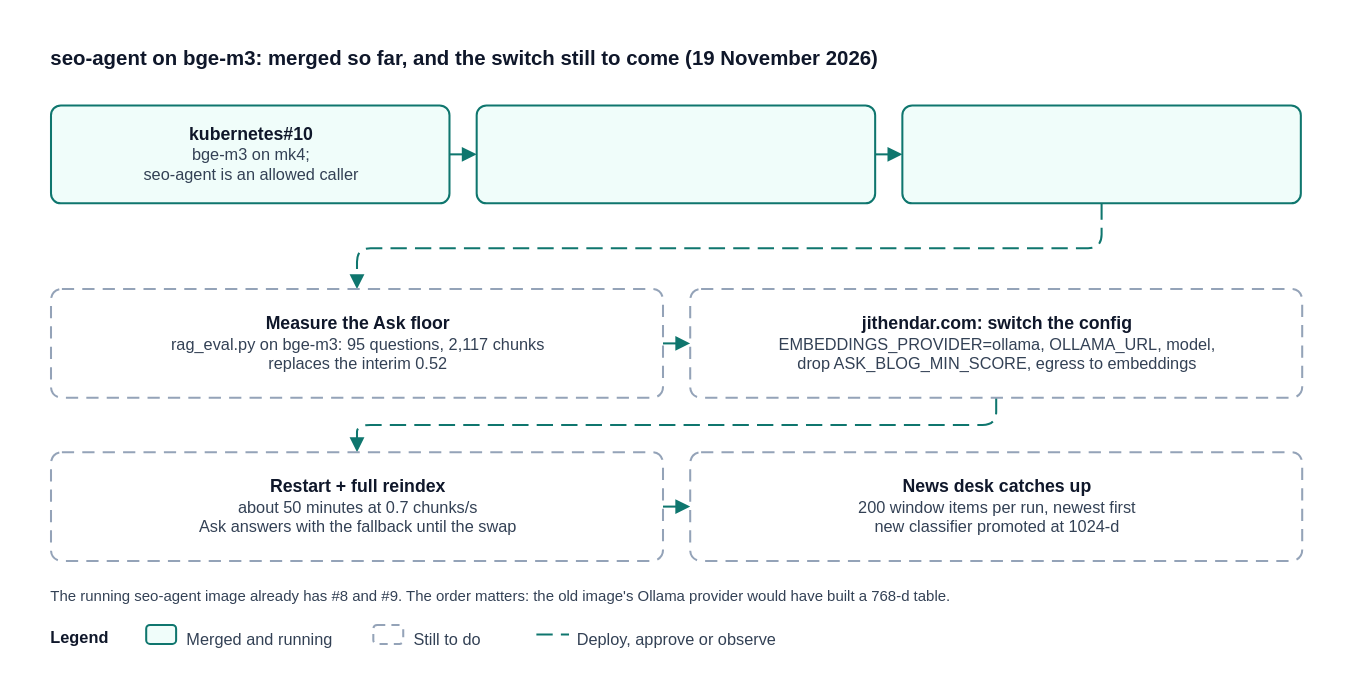
Some shapes in this 1352 by 691 pixel diagram are drawn without their labels. Here are the shapes that lost their labels. From the top down, the centre of each, then its label:
pixel 675 154: moks-seo-agent#8 provider, cutoffs per model, news desk migration
pixel 1101 154: moks-seo-agent#9 the measured bge-m3 row (#8 merged without it: master red)
